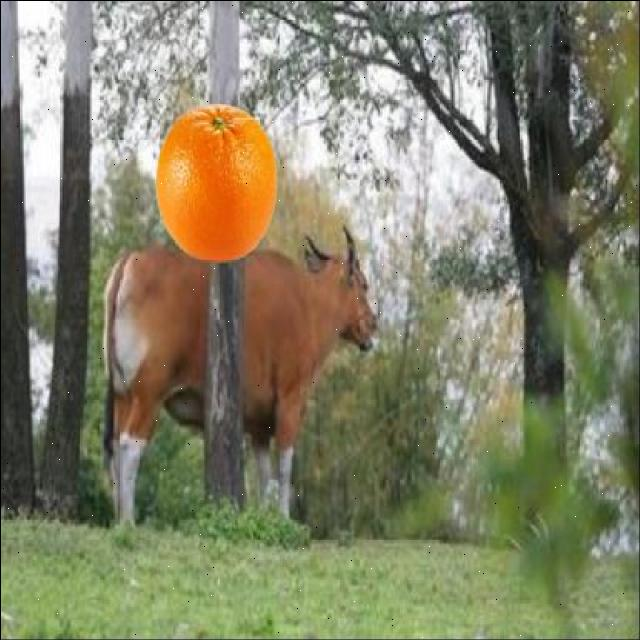Orange: (154, 103, 280, 265)
